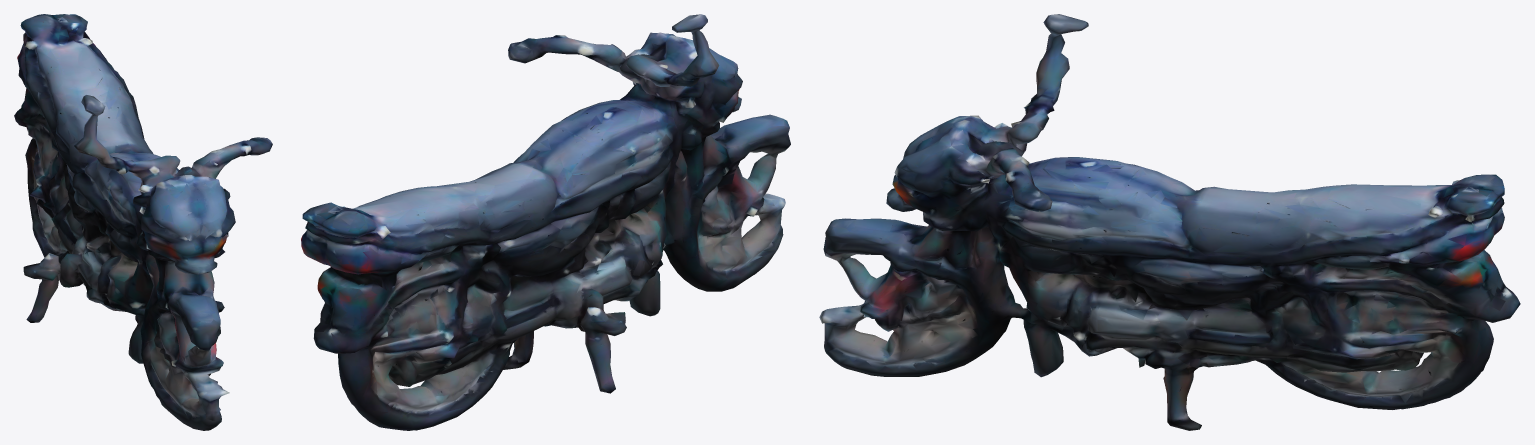
Rendered from bike.glb.
3 views of the same model, side by side, from view 1: azimuth 30°, elevation 25°; view 2: azimuth 150°, elevation 25°; view 3: azimuth 270°, elevation 25° (orthographic). The views are drawn at different scales.
Parts seen in each view (by area): view 1: body; view 2: body; view 3: body.
Part boxes in pixels (box(x1,y1,x2,y2)): body: box(14, 14, 272, 430); body: box(301, 14, 790, 430); body: box(819, 14, 1520, 430).
Size of the model in its own units: 0.7494 by 1.1 by 2.
Materials: 1 (1 with a texture image).
